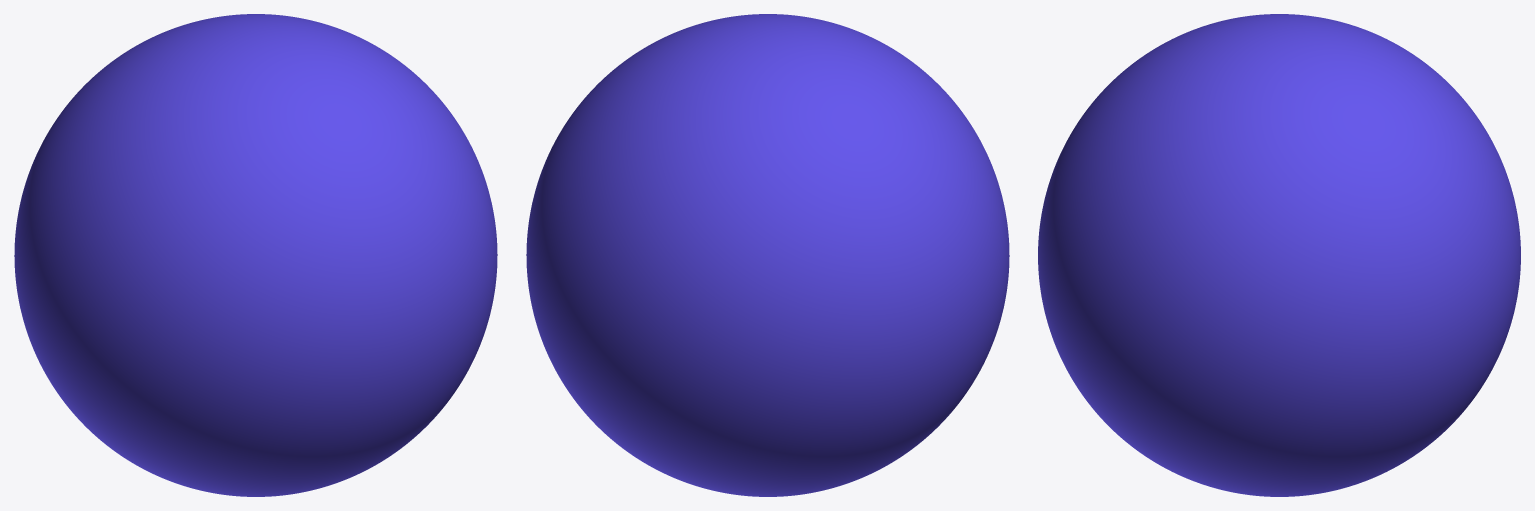
The picture shows the model from 3 angles, left to right: view 1: azimuth 30°, elevation 25°; view 2: azimuth 150°, elevation 25°; view 3: azimuth 270°, elevation 25°; orthographic projection.
Parts seen in each view (by area): view 1: Sphere.001; view 2: Sphere.001; view 3: Sphere.001.
Boxes of the visible parts, x1,y1,x2,y2 form: Sphere.001: (14, 14, 497, 496); Sphere.001: (526, 14, 1009, 496); Sphere.001: (1038, 14, 1520, 496).
Size of the model in its own units: 6 by 6.08 by 6.
